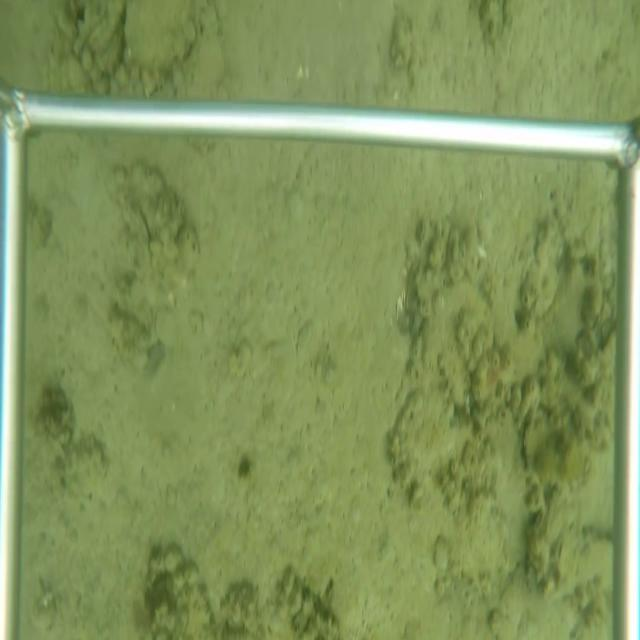Oyster-Indeterminate: (120, 0, 197, 76)
